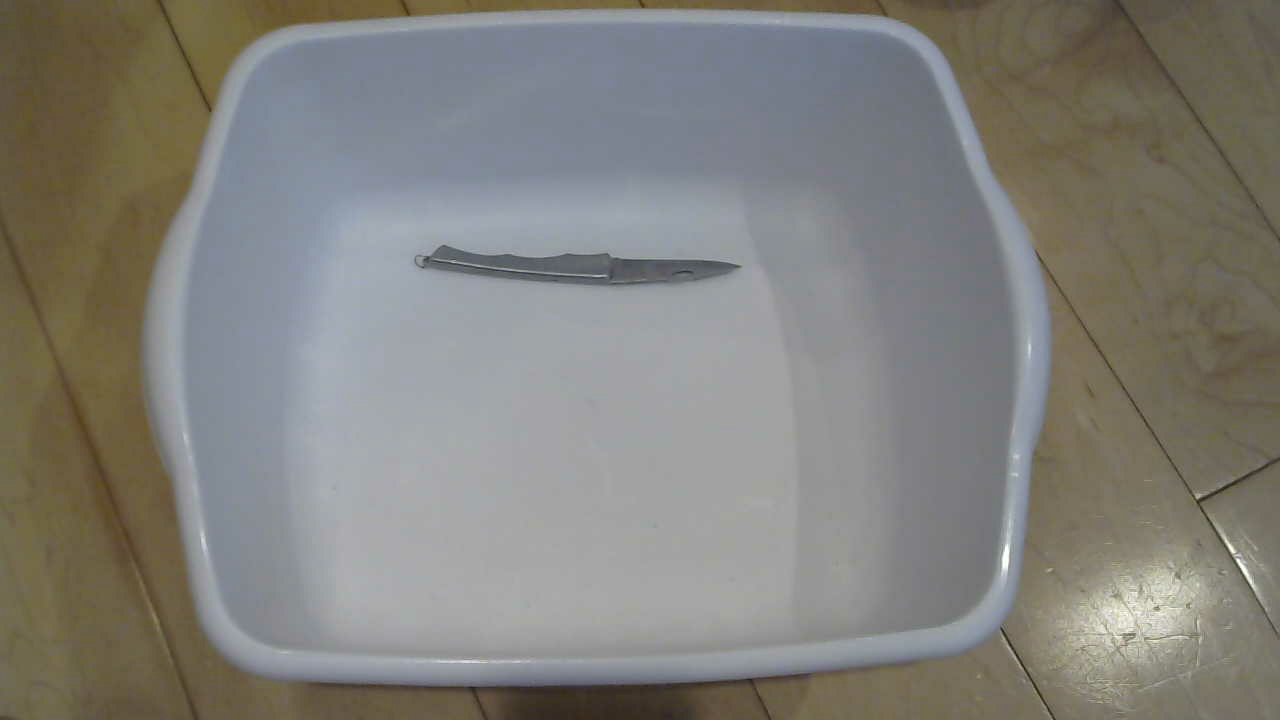knife: (414, 240, 759, 305)
